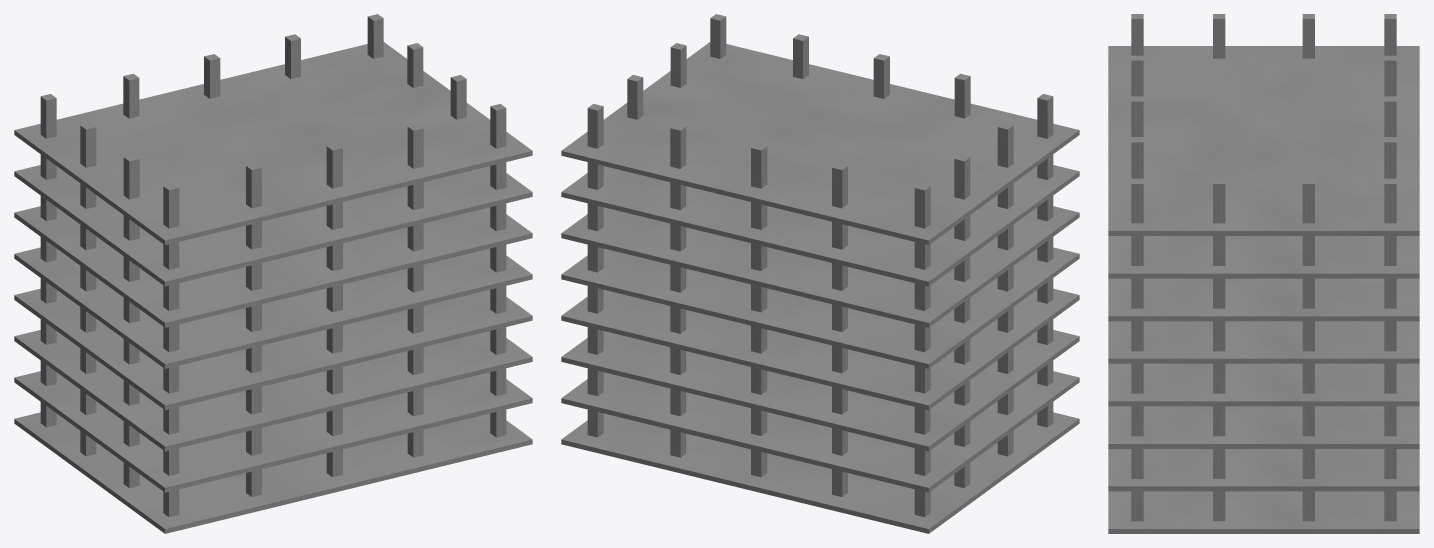
Rendered from Construction building1.fbx.
3 views of the same model, side by side, from view 1: azimuth 30°, elevation 25°; view 2: azimuth 150°, elevation 25°; view 3: azimuth 270°, elevation 25° (orthographic). The views are drawn at different scales.
Visible parts, largest first — view 1: Box003; view 2: Box003; view 3: Box003.
Part boxes in pixels (bbox=[...]): Box003: bbox=[14, 14, 532, 533]; Box003: bbox=[561, 14, 1079, 533]; Box003: bbox=[1108, 14, 1419, 533].
Bounding box in the file's own units: 5458 × 4707 × 3881.
